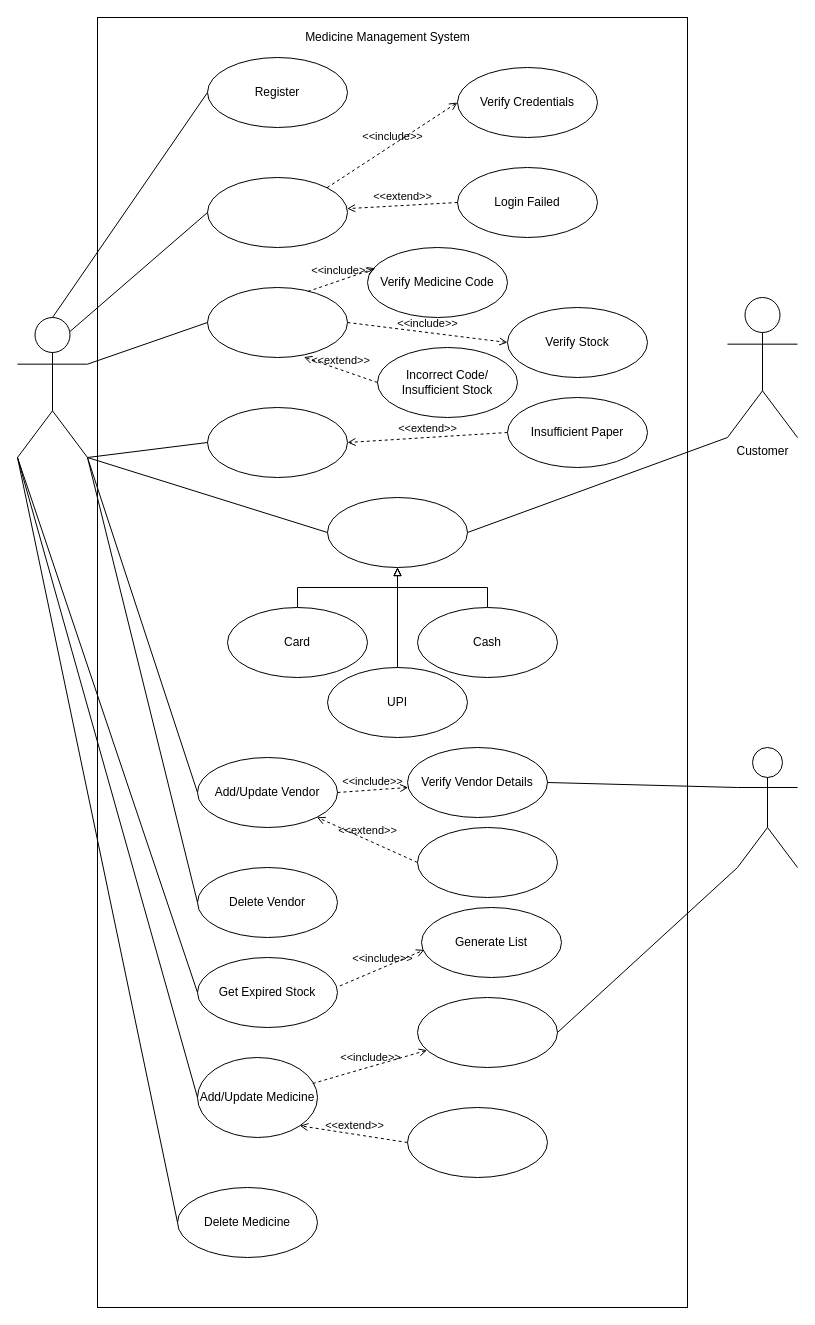
The diagram is 815 pixels wide and 1325 high, and some of its shapes have lost their labels. The shapes that lost their labels are listed below. From the top down, each one's centre as x and y in pixels, then its label:
At (x=277, y=212): "Login".
At (x=277, y=322): "Create Receipt".
At (x=52, y=387): "Pharmacist".
At (x=277, y=442): "Print Receipt".
At (x=397, y=532): "Payment".
At (x=767, y=807): "Vendor".
At (x=487, y=862): "Incorrect Vendor Details".
At (x=487, y=1032): "Verify Medicine Details".
At (x=477, y=1142): "Incorrect Medicine Details".
